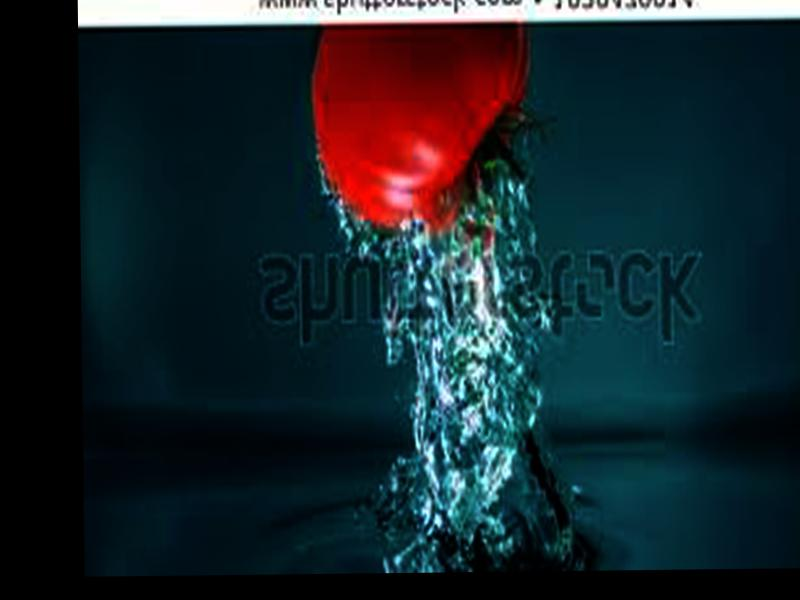Tomato: (312, 22, 532, 231)
